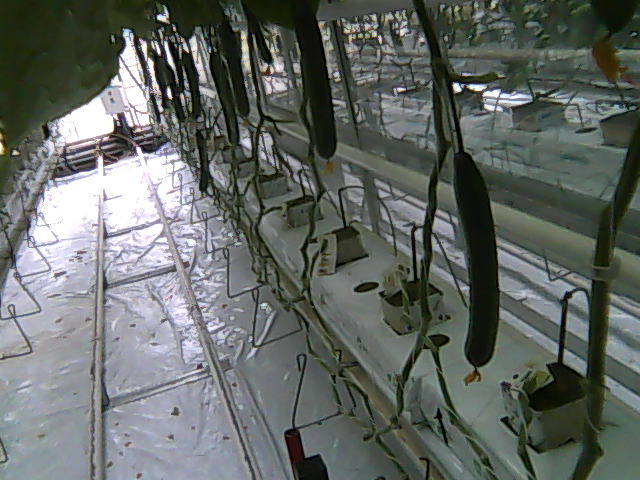concombre: (449, 136, 505, 389), (286, 1, 339, 179)
